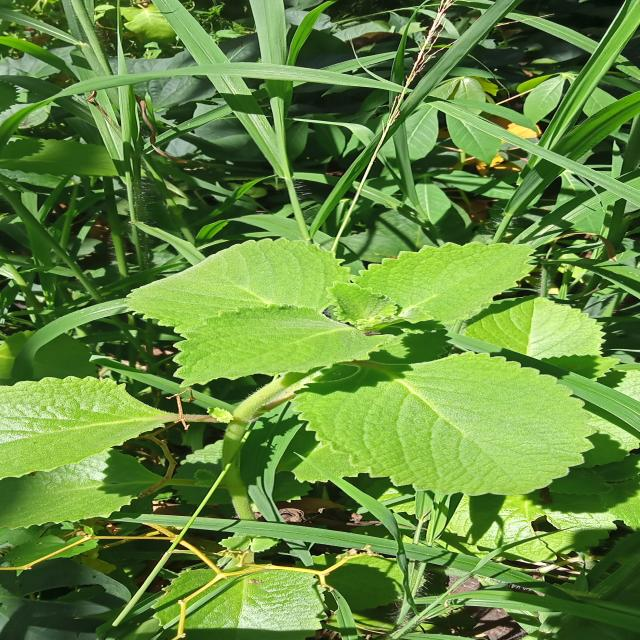Oregano: (39, 229, 640, 506)
